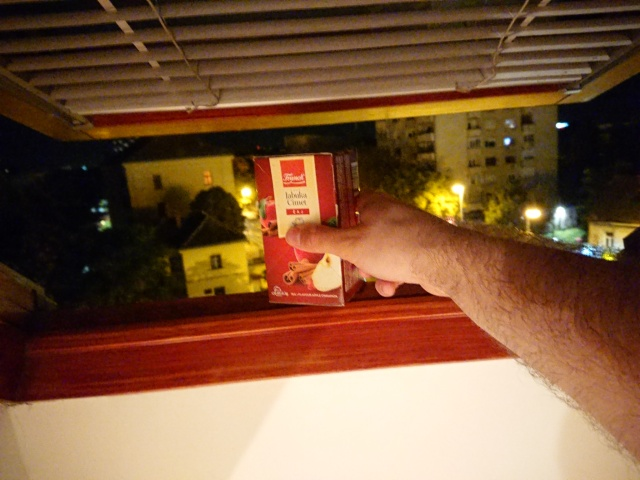Franck Apple Cinnamon Tea 60g: (247, 140, 369, 310)
